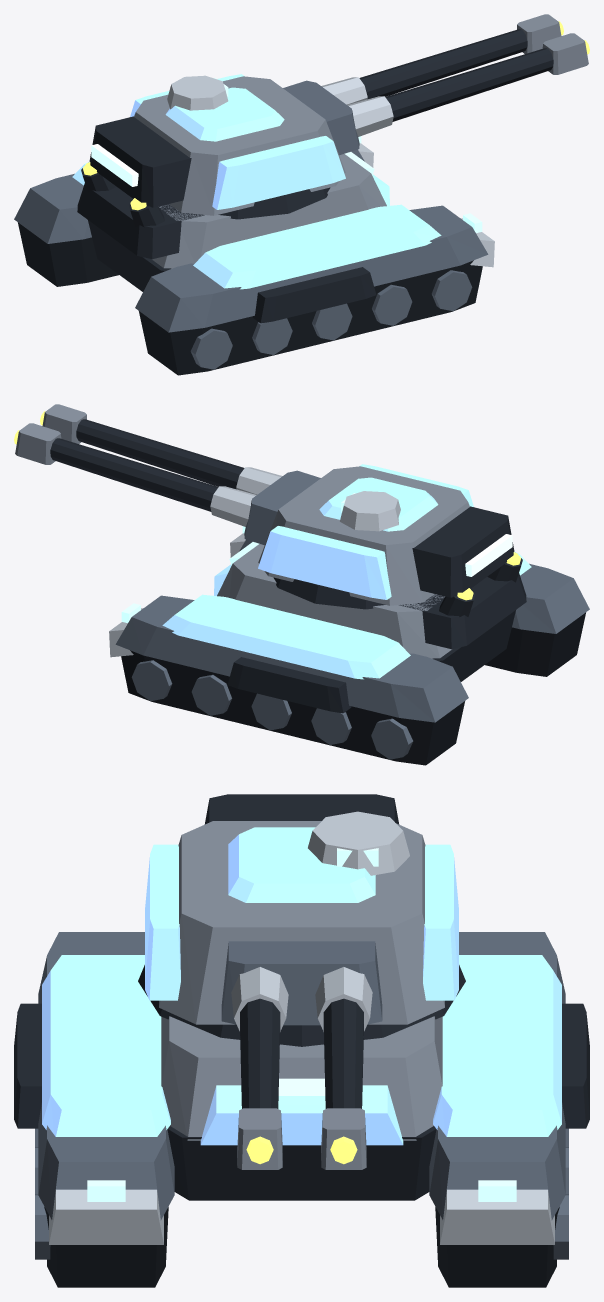
The model's file is howitzer.glb.
3 views of the same model, one above another, from view 1: azimuth 30°, elevation 25°; view 2: azimuth 150°, elevation 25°; view 3: azimuth 270°, elevation 25° (orthographic). The views are drawn at different scales.
Visible parts, largest first — view 1: Surf_heavy, Surf_dark, Surf_track, Surf_TEAM, Surf_TEAM2, Surf_armor2, Surf_dark3, Surf_armor, Surf_dark2, Surf_armor3, Surf_heavy2, Surf_light3 (+4 smaller); view 2: Surf_heavy, Surf_dark, Surf_track, Surf_TEAM, Surf_TEAM2, Surf_armor2, Surf_dark3, Surf_armor, Surf_dark2, Surf_armor3, Surf_heavy2, Surf_light3 (+4 smaller); view 3: Surf_TEAM, Surf_armor2, Surf_heavy, Surf_dark, Surf_TEAM2, Surf_armor, Surf_light, Surf_track, Surf_dark3, Surf_heavy2, Surf_dark2, Surf_light2 (+4 smaller).
Boxes of the visible parts, x1,y1,x2,y2 form: Surf_heavy: [14, 149, 488, 369]; Surf_dark: [77, 168, 376, 323]; Surf_track: [18, 222, 482, 375]; Surf_TEAM: [72, 162, 441, 289]; Surf_TEAM2: [130, 74, 345, 209]; Surf_armor2: [134, 76, 345, 215]; Surf_dark3: [359, 29, 553, 121]; Surf_armor: [152, 154, 386, 268]; Surf_dark2: [89, 116, 191, 207]; Surf_armor3: [517, 14, 588, 74]; Surf_heavy2: [283, 80, 359, 155]; Surf_light3: [321, 77, 393, 136]; Surf_heavy: [115, 539, 589, 759]; Surf_dark: [227, 558, 526, 713]; Surf_track: [121, 612, 585, 765]; Surf_TEAM: [162, 552, 531, 679]; Surf_TEAM2: [258, 464, 473, 599]; Surf_armor2: [258, 466, 469, 605]; Surf_dark3: [50, 419, 244, 511]; Surf_armor: [217, 544, 451, 658]; Surf_dark2: [412, 506, 514, 597]; Surf_armor3: [15, 404, 86, 464]; Surf_heavy2: [244, 470, 320, 545]; Surf_light3: [210, 467, 282, 526]; Surf_TEAM: [42, 955, 561, 1145]; Surf_armor2: [159, 821, 444, 1024]; Surf_heavy: [35, 932, 568, 1259]; Surf_dark: [14, 965, 589, 1200]; Surf_TEAM2: [145, 827, 458, 1000]; Surf_armor: [161, 1016, 442, 1140]; Surf_light: [49, 1189, 554, 1244]; Surf_track: [44, 1207, 559, 1287]; Surf_dark3: [240, 998, 363, 1108]; Surf_heavy2: [221, 941, 382, 1025]; Surf_dark2: [204, 794, 399, 824]; Surf_light2: [308, 811, 409, 875].
Size of the model in its own units: 5.16 by 1.97 by 3.3.
